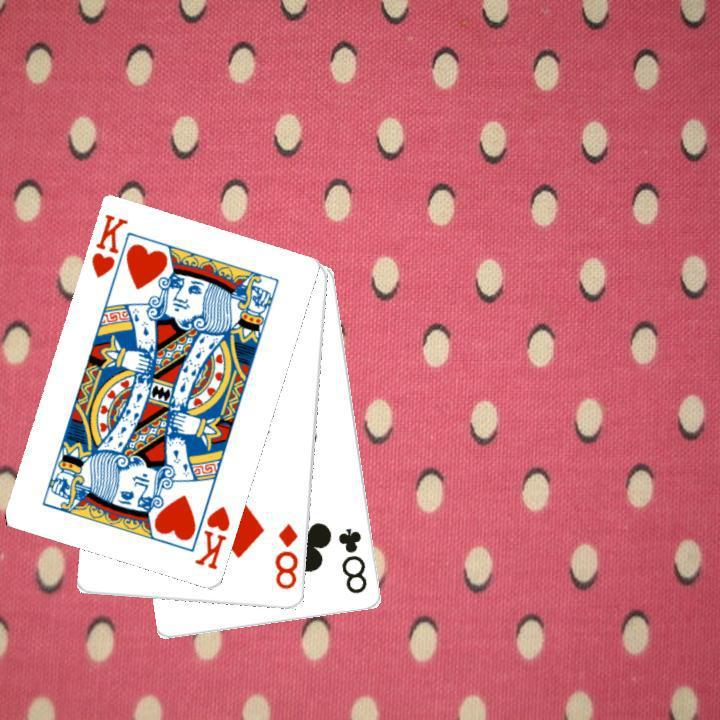8: (334, 524, 370, 596), (271, 519, 300, 592)
K: (87, 210, 131, 281), (190, 502, 233, 572)
